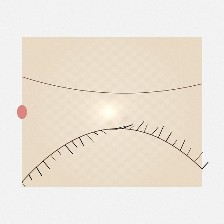corneal_ulcer: (93, 92, 154, 141)
